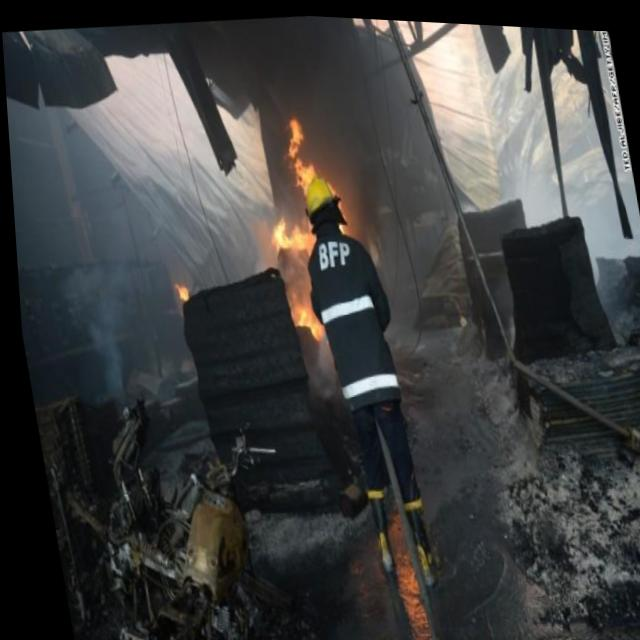fire: (258, 199, 328, 349), (271, 101, 324, 193), (167, 274, 190, 306)
